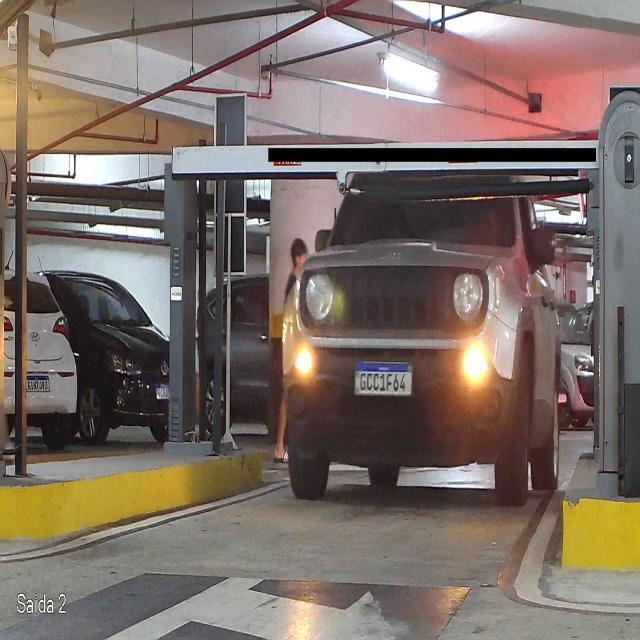mercosul_plate: (352, 360, 413, 398)
